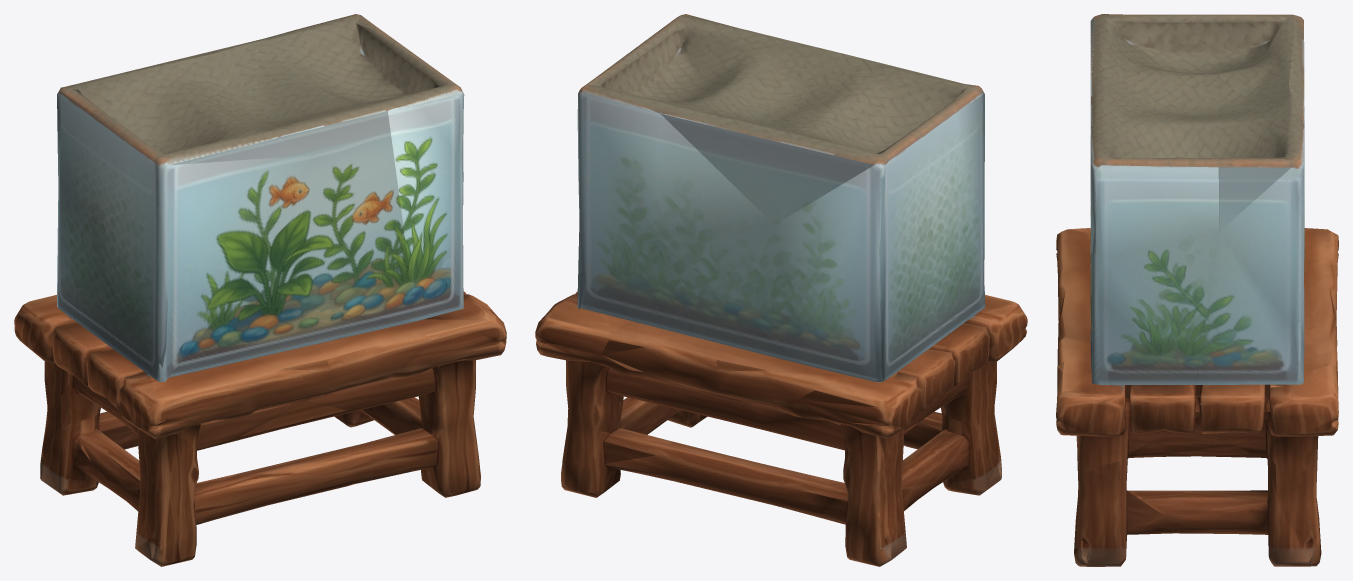
The model's file is Decor_Aquarium.fbx.
The picture shows the model from 3 angles, left to right: view 1: azimuth 30°, elevation 25°; view 2: azimuth 150°, elevation 25°; view 3: azimuth 270°, elevation 25°; orthographic projection.
Visible parts, largest first — view 1: Mesh_0; view 2: Mesh_0; view 3: Mesh_0.
Boxes of the visible parts, x1,y1,x2,y2 form: Mesh_0: (14,14,506,566); Mesh_0: (535,14,1027,566); Mesh_0: (1056,14,1338,566).
Size of the model in its own units: 177 by 189 by 120.
1 material, 1 textured.
